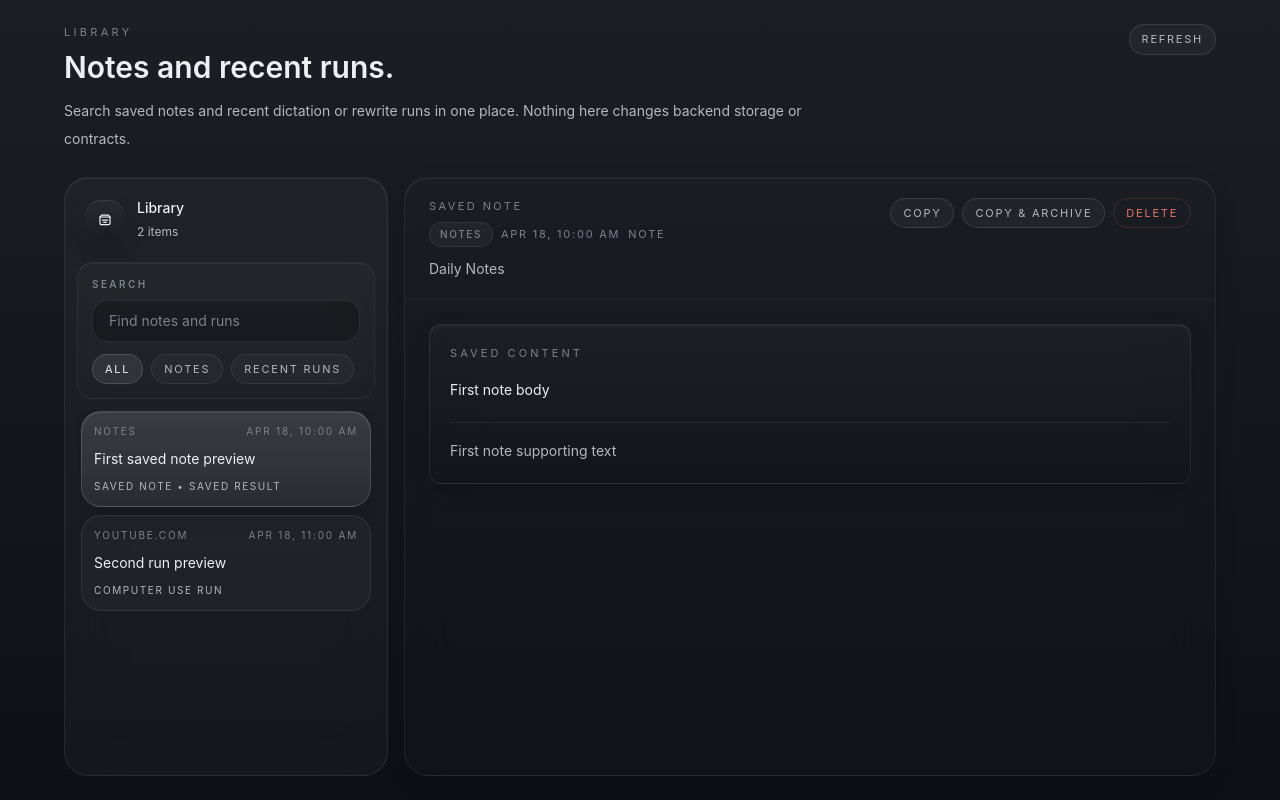
it: LibraryView › keeps run actions and rerun controls visible after selecting a run
Expected: the text "First note body" is shown, [450,380,550,398]
Click the button "Second run preview": (226, 563) [81,515,371,611]
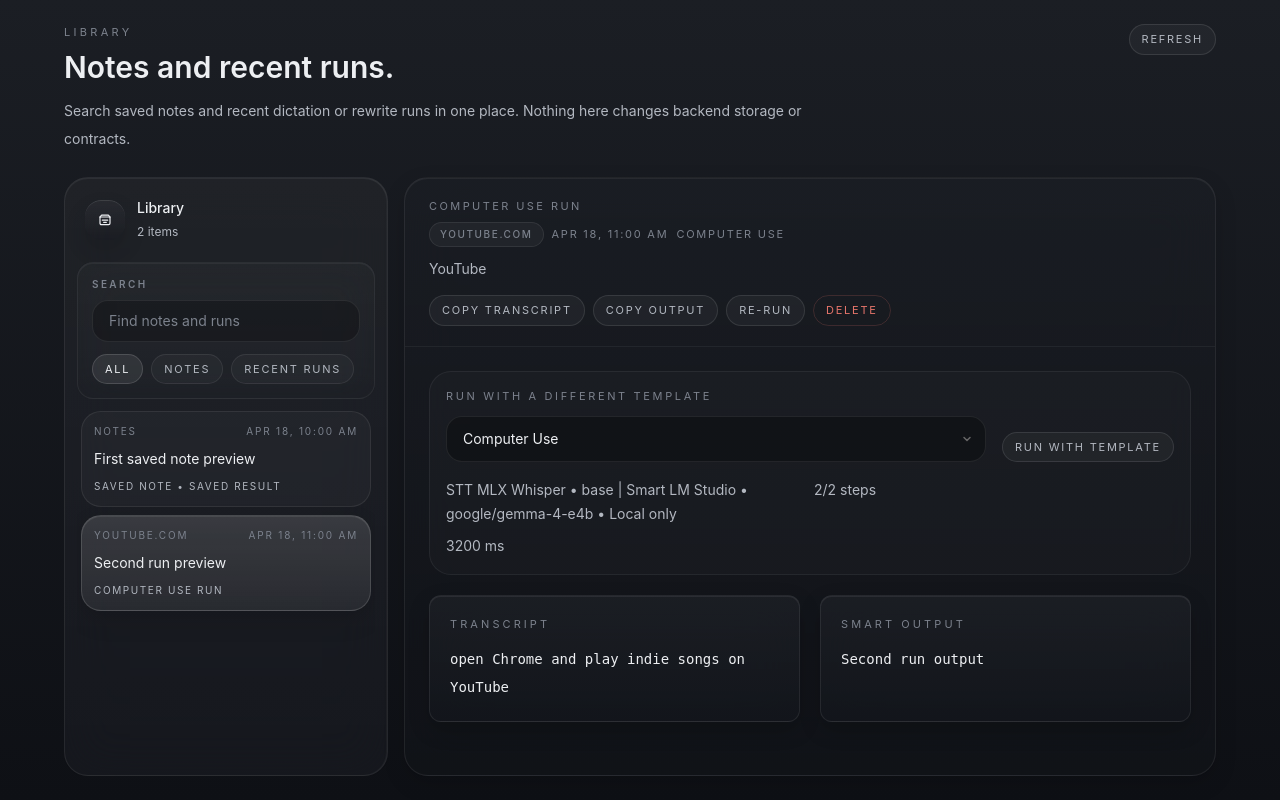
Result: the text "Second run output" is shown at [841,650,984,666]
Result: the text "open Chrome and play indie songs on YouTube" is shown at [450,644,779,700]
Result: the button "Copy transcript" is shown at [429,295,585,326]
